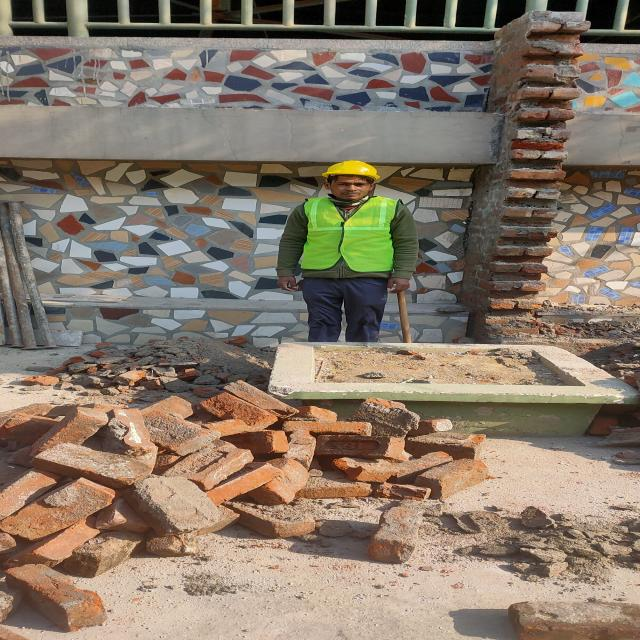safe: (275, 160, 418, 341)
